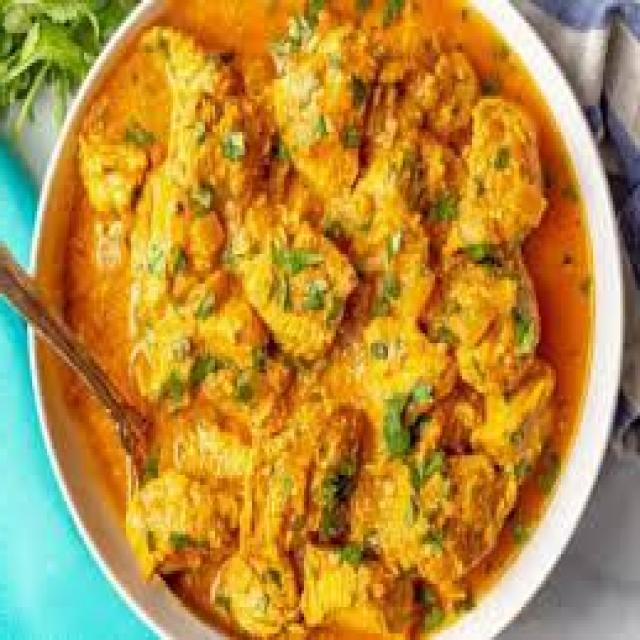Butter Chicken: (65, 6, 586, 640)
